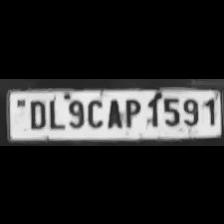1: (142, 94, 160, 128), (201, 96, 219, 127)
5: (160, 94, 180, 126)
9: (180, 94, 200, 126), (65, 96, 84, 128)
A: (104, 96, 122, 128)
C: (85, 95, 103, 127)
D: (26, 96, 46, 128)
L: (46, 96, 64, 128)
P: (120, 95, 142, 127)
